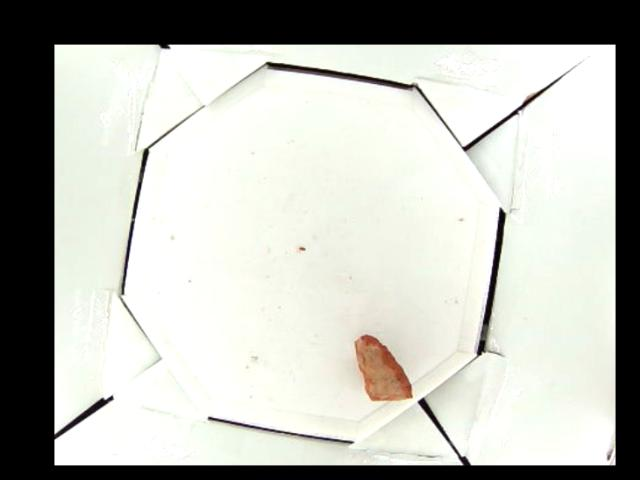Brisk: (355, 334, 415, 401)
